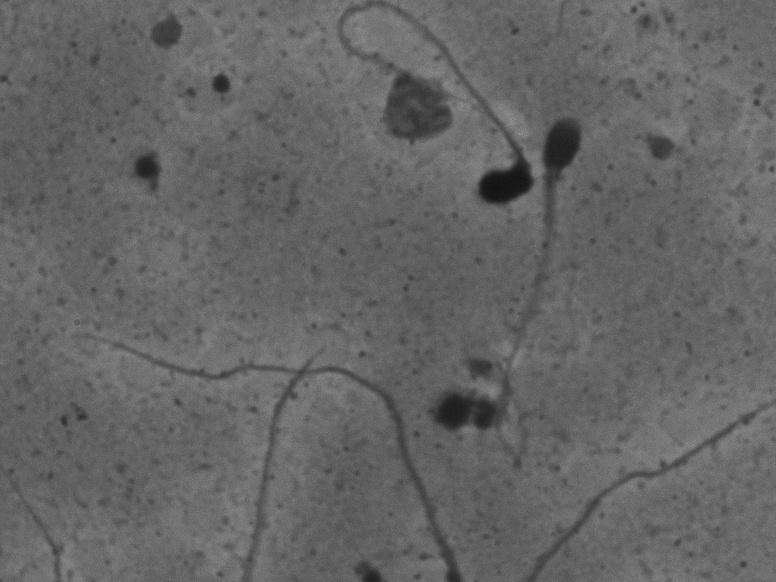Abnormal: (290, 2, 536, 229), (473, 90, 621, 433)
